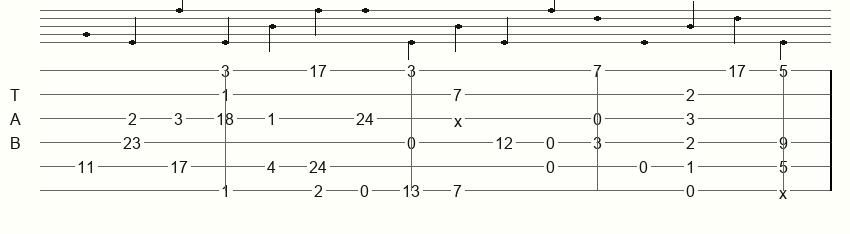0: (360, 182, 373, 198), (407, 134, 420, 150), (546, 158, 559, 174), (546, 134, 559, 150), (593, 110, 606, 126), (639, 158, 652, 174), (686, 182, 699, 198)
1: (221, 86, 234, 102), (221, 182, 234, 198), (267, 110, 280, 126), (686, 158, 699, 174)
11: (77, 158, 99, 174)
12: (495, 134, 517, 150)
13: (402, 182, 424, 198)
17: (170, 158, 192, 174), (309, 62, 331, 78), (728, 62, 750, 78)
18: (216, 110, 238, 126)
2: (128, 110, 141, 126), (314, 182, 327, 198), (686, 86, 699, 102), (686, 134, 699, 150)
23: (123, 134, 145, 150)
24: (309, 158, 331, 174), (356, 110, 378, 126)
3: (174, 110, 187, 126), (221, 62, 234, 78), (407, 62, 420, 78), (593, 134, 606, 150), (686, 110, 699, 126)
4: (267, 158, 280, 174)
5: (779, 62, 792, 78), (779, 158, 792, 174)
7: (453, 86, 466, 102), (453, 182, 466, 198), (593, 62, 606, 78)
9: (779, 134, 792, 150)
x: (454, 112, 466, 125), (779, 184, 791, 197)
